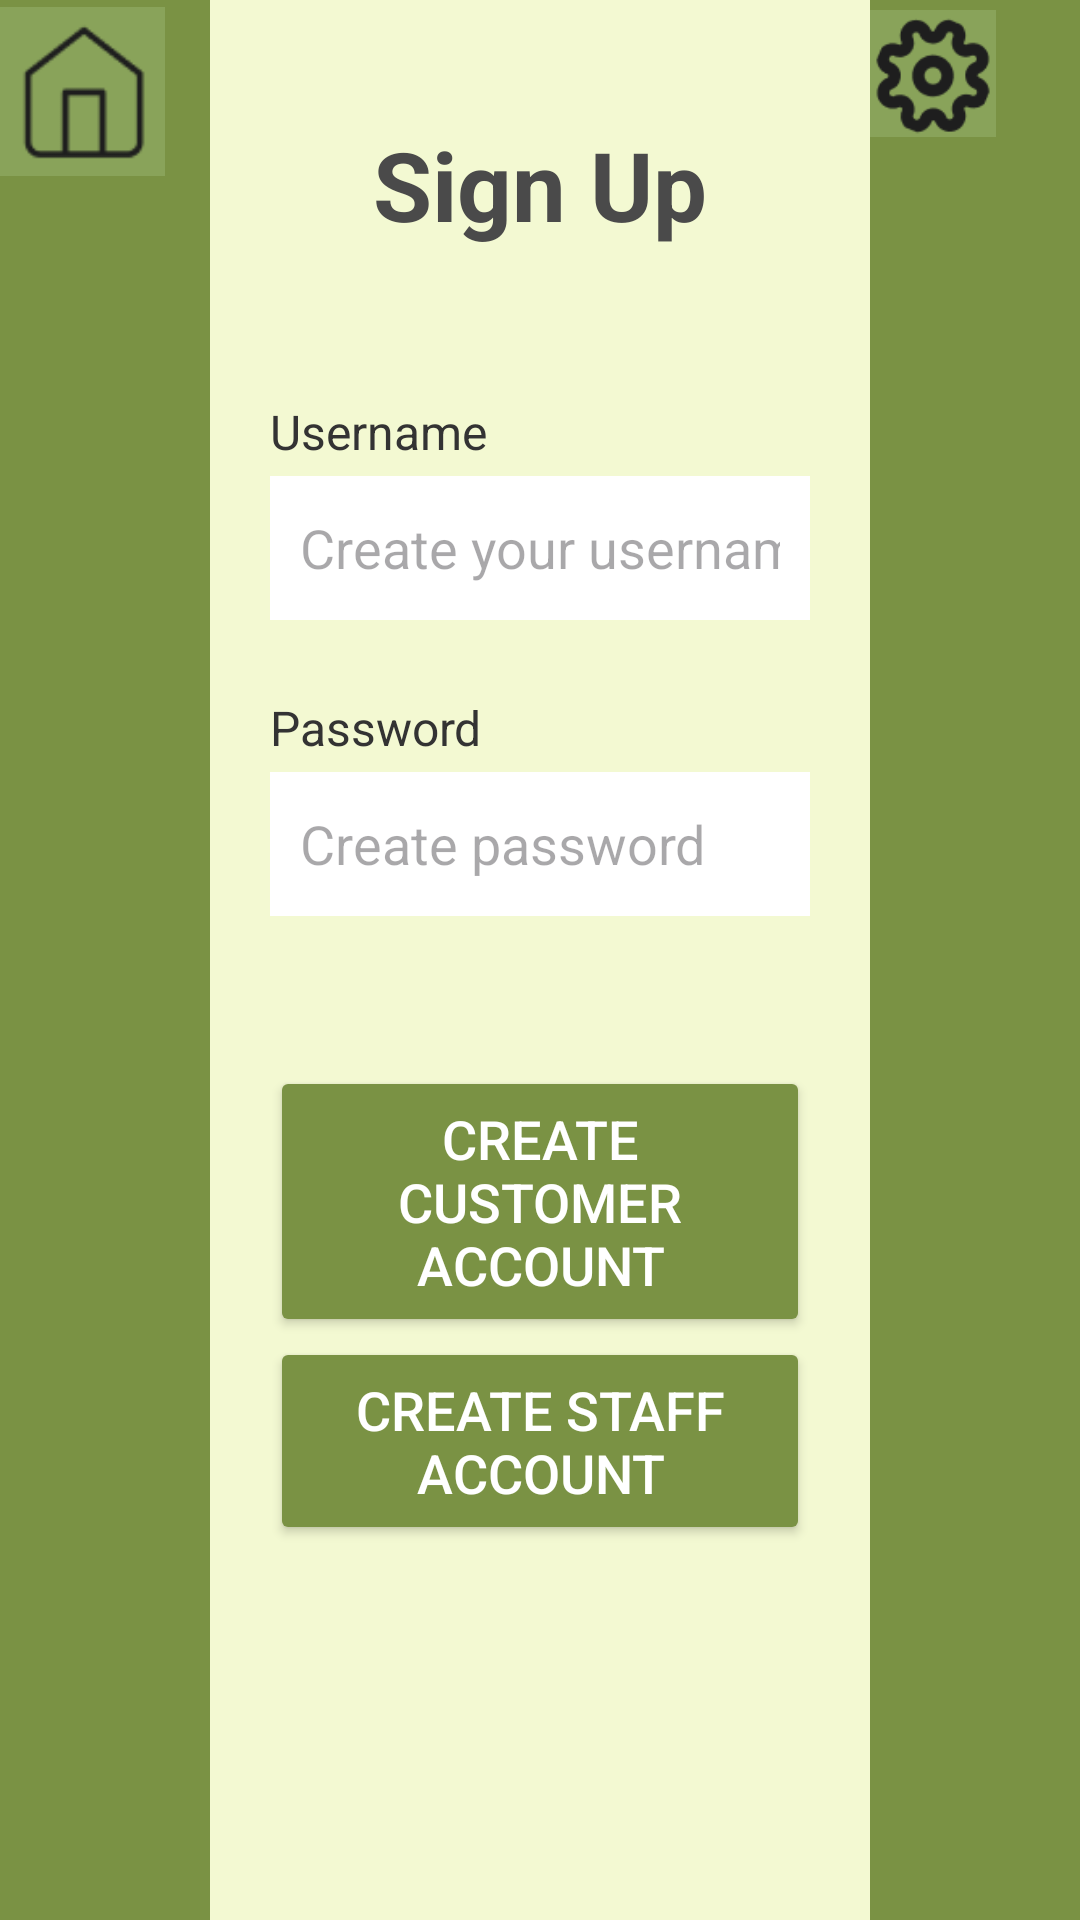

Icon click points for this 1080x1920 phone screenshot, format [x,y]:
home: [82,91]
settings: [933,76]
